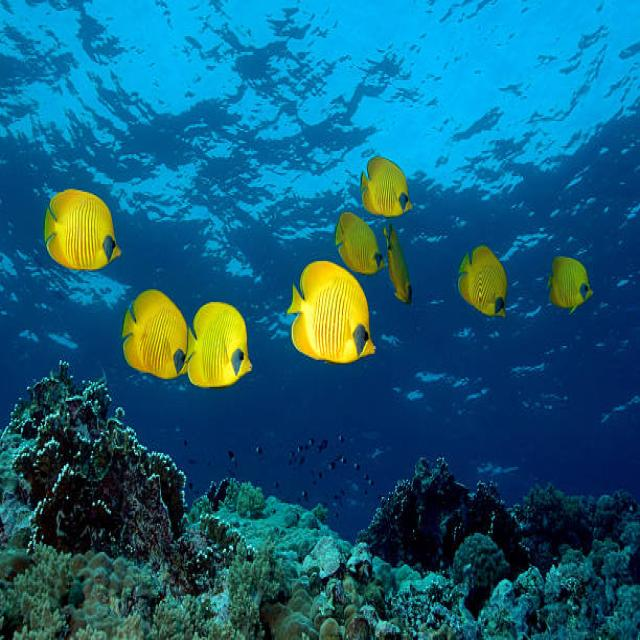ButterflyFish: (288, 261, 376, 363), (120, 290, 192, 378), (44, 190, 121, 269), (187, 302, 253, 389), (458, 248, 508, 323), (334, 213, 384, 274), (362, 158, 414, 215), (548, 254, 594, 314), (385, 224, 412, 309)
